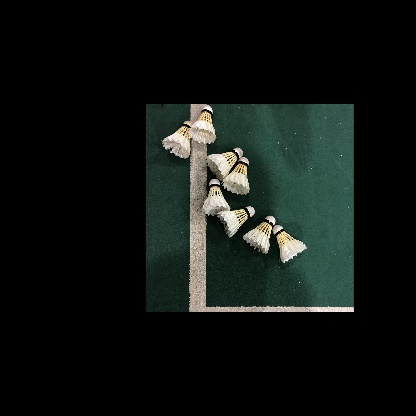ball_single: (272, 225, 307, 264), (243, 215, 276, 254), (206, 147, 243, 181), (217, 206, 255, 238), (162, 121, 193, 159), (189, 105, 216, 144), (203, 178, 230, 216), (222, 157, 249, 195)
